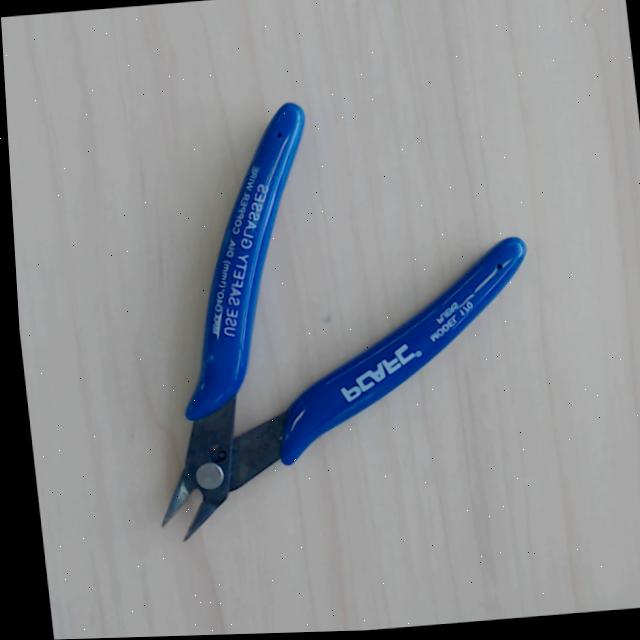Tang-Potong-Biru: (63, 97, 531, 614)
